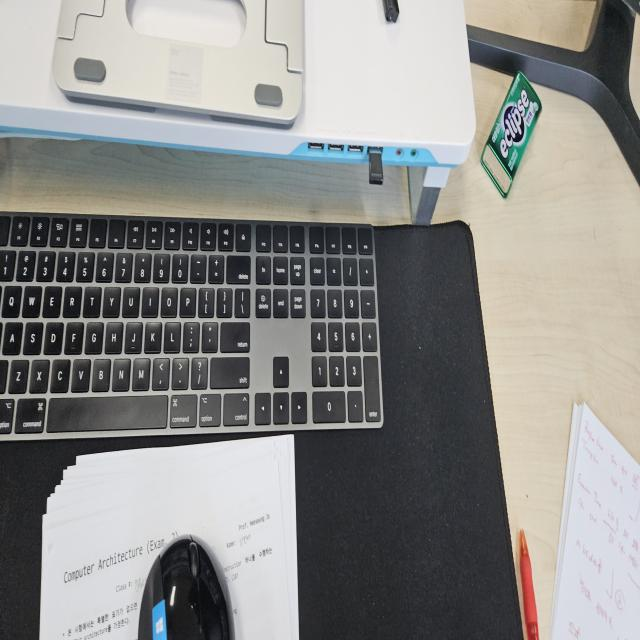Keyboard: (1, 209, 384, 442)
Mouse: (136, 532, 234, 637)
